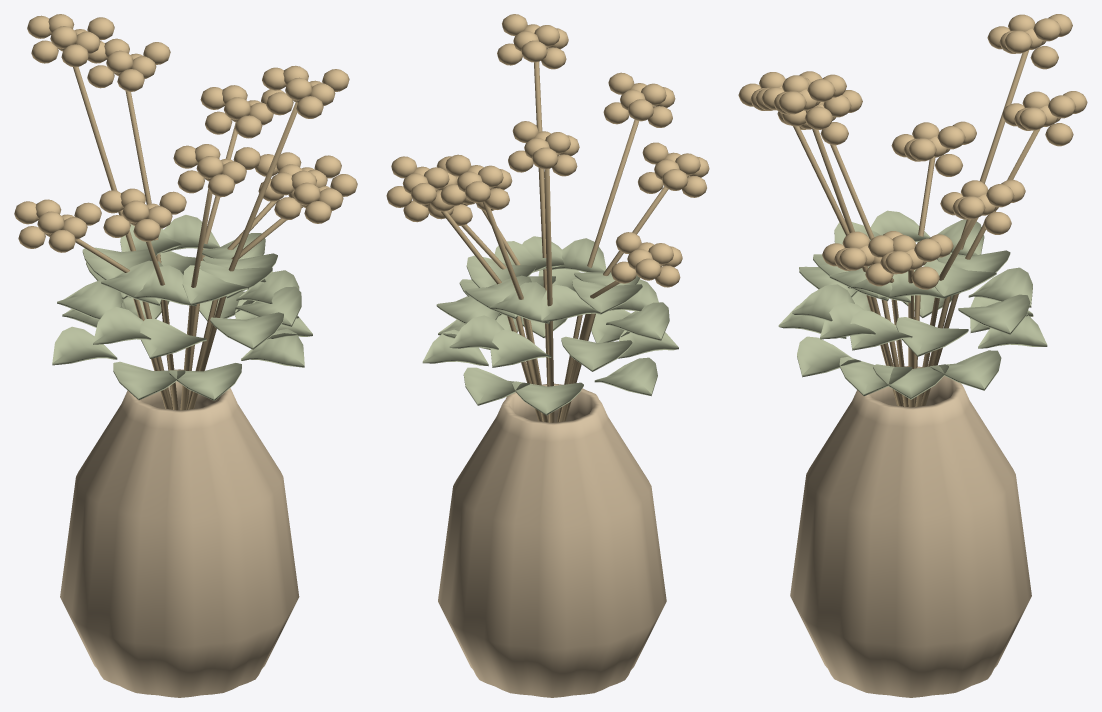
Rendered from dried_bouquet.glb.
3 renders of one model, left to right at view 1: azimuth 30°, elevation 25°; view 2: azimuth 150°, elevation 25°; view 3: azimuth 270°, elevation 25°, orthographic. The views are drawn at different scales.
Parts seen in each view (by area): view 1: dried_bouquet__body, dried_bouquet__flowers, dried_bouquet__leaves, dried_bouquet__stems; view 2: dried_bouquet__body, dried_bouquet__leaves, dried_bouquet__flowers, dried_bouquet__stems; view 3: dried_bouquet__body, dried_bouquet__leaves, dried_bouquet__flowers, dried_bouquet__stems.
Boxes of the visible parts, x1=… form: dried_bouquet__body: x1=60, y1=369, x2=299, y2=697; dried_bouquet__flowers: x1=14, y1=14, x2=357, y2=252; dried_bouquet__leaves: x1=52, y1=215, x2=312, y2=400; dried_bouquet__stems: x1=73, y1=67, x2=302, y2=410; dried_bouquet__body: x1=438, y1=383, x2=666, y2=697; dried_bouquet__leaves: x1=422, y1=236, x2=678, y2=415; dried_bouquet__flowers: x1=386, y1=14, x2=709, y2=287; dried_bouquet__stems: x1=441, y1=62, x2=668, y2=422; dried_bouquet__body: x1=790, y1=366, x2=1031, y2=697; dried_bouquet__leaves: x1=778, y1=210, x2=1047, y2=399; dried_bouquet__flowers: x1=738, y1=14, x2=1087, y2=289; dried_bouquet__stems: x1=793, y1=50, x2=1040, y2=407.
Bounding box in the file's own units: 0.2213 × 0.4299 × 0.2209.
